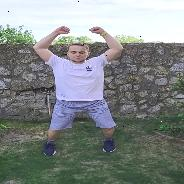jumping_jacks: (19, 15, 135, 160)
